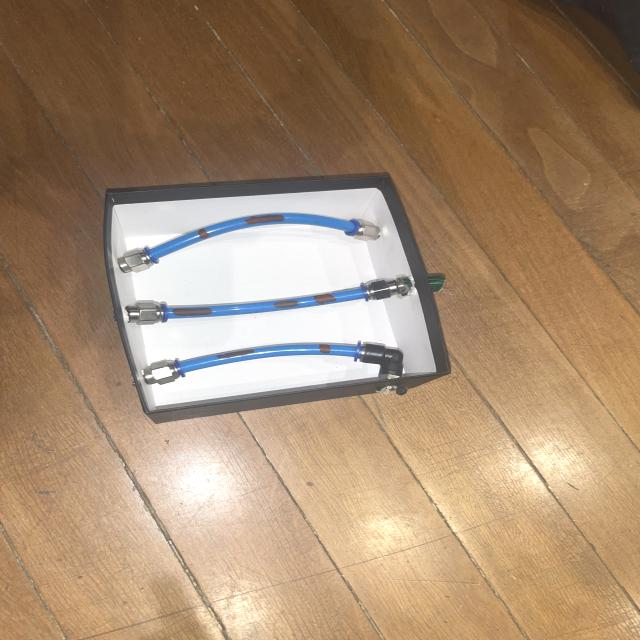hose_damage: (242, 212, 285, 226), (214, 348, 257, 360), (170, 306, 212, 318), (312, 292, 337, 306), (272, 299, 300, 309), (195, 227, 212, 241), (316, 344, 332, 354)
